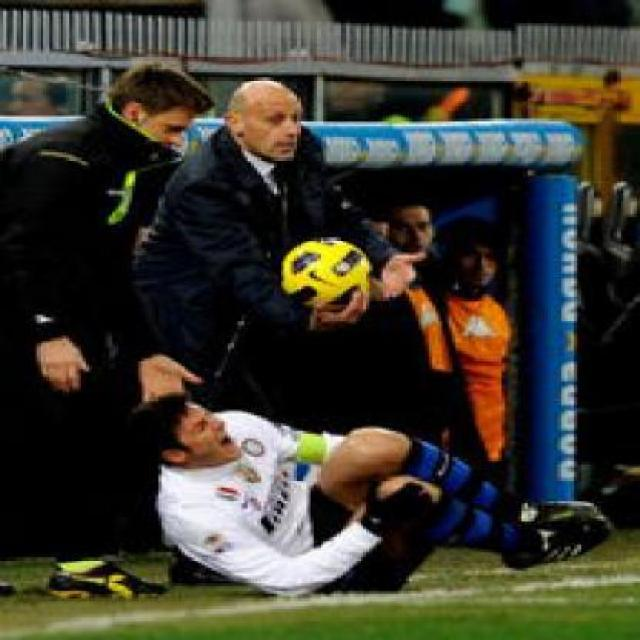fall: (122, 364, 587, 599)
